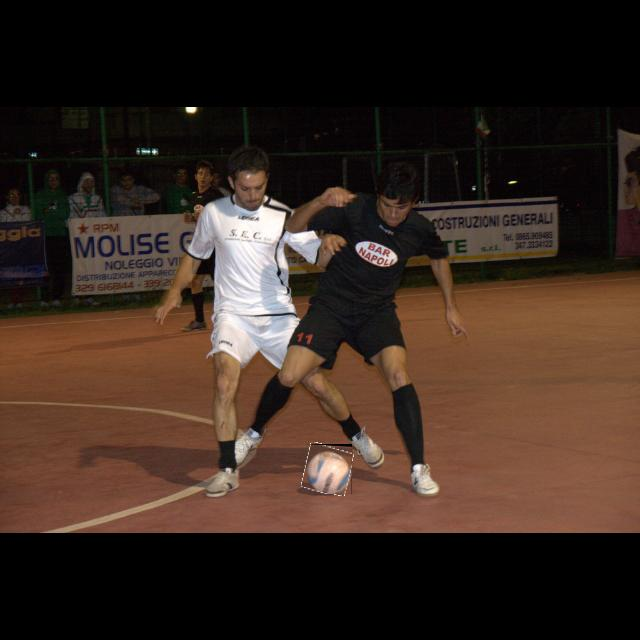Football: (304, 444, 352, 494)
